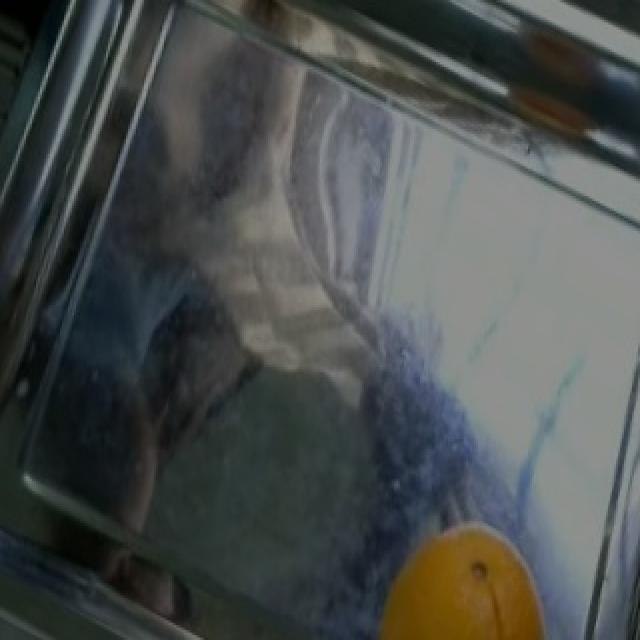Fruit: (372, 511, 554, 640)
